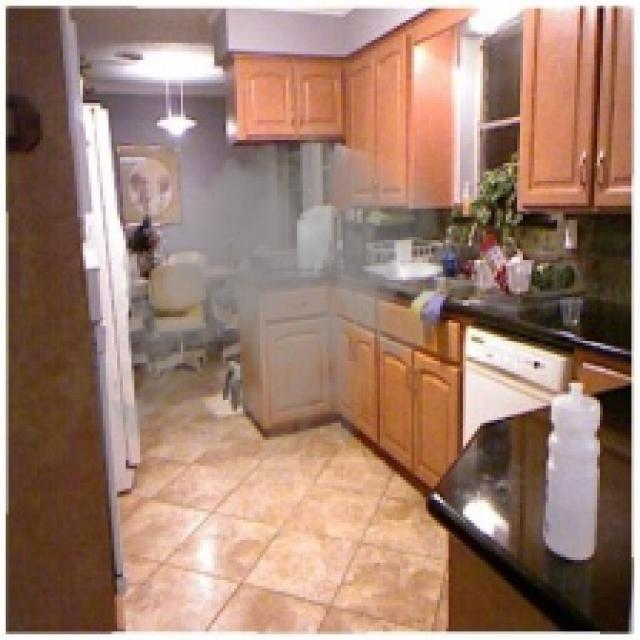Smoke: (97, 106, 474, 508)
